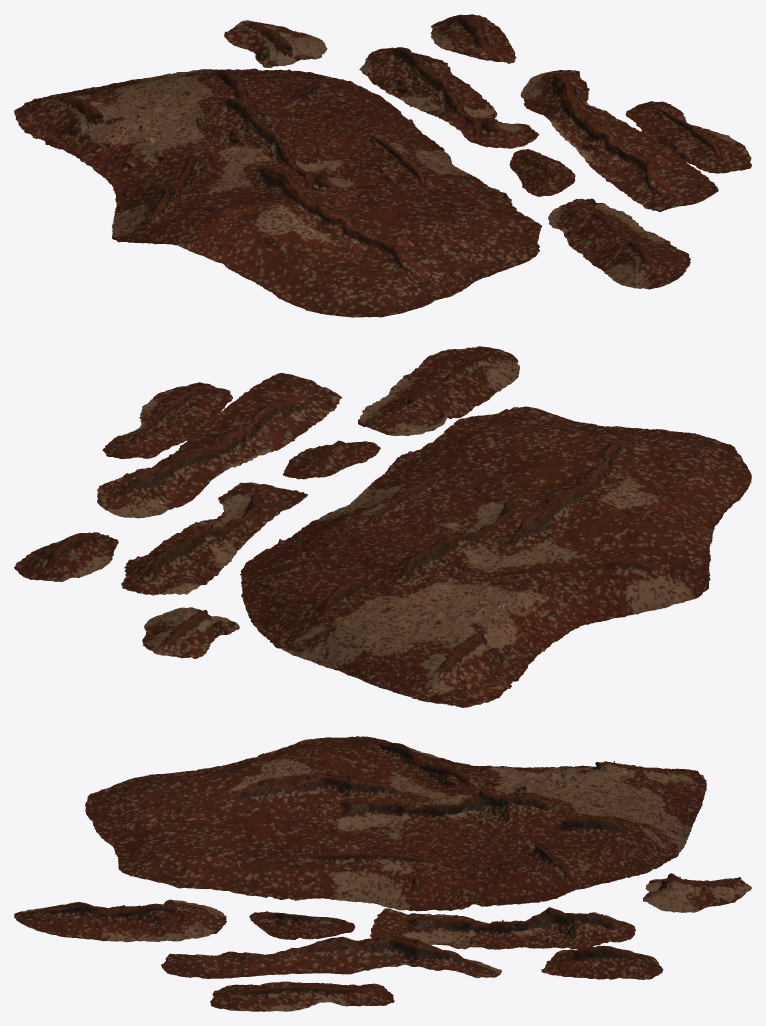
The model's file is prop_roots2.glb.
3 views of the same model, one above another, from view 1: azimuth 30°, elevation 25°; view 2: azimuth 150°, elevation 25°; view 3: azimuth 270°, elevation 25° (orthographic). The views are drawn at different scales.
Visible parts, largest first — view 1: root_cluster_02_d; view 2: root_cluster_02_d; view 3: root_cluster_02_d.
Boxes of the visible parts, x1,y1,x2,y2 form: root_cluster_02_d: (14, 14, 751, 317); root_cluster_02_d: (14, 346, 751, 707); root_cluster_02_d: (14, 736, 751, 1011).
Size of the model in its own units: 2.38 by 0.1987 by 2.71.
Materials: 1 (1 with a texture image).
